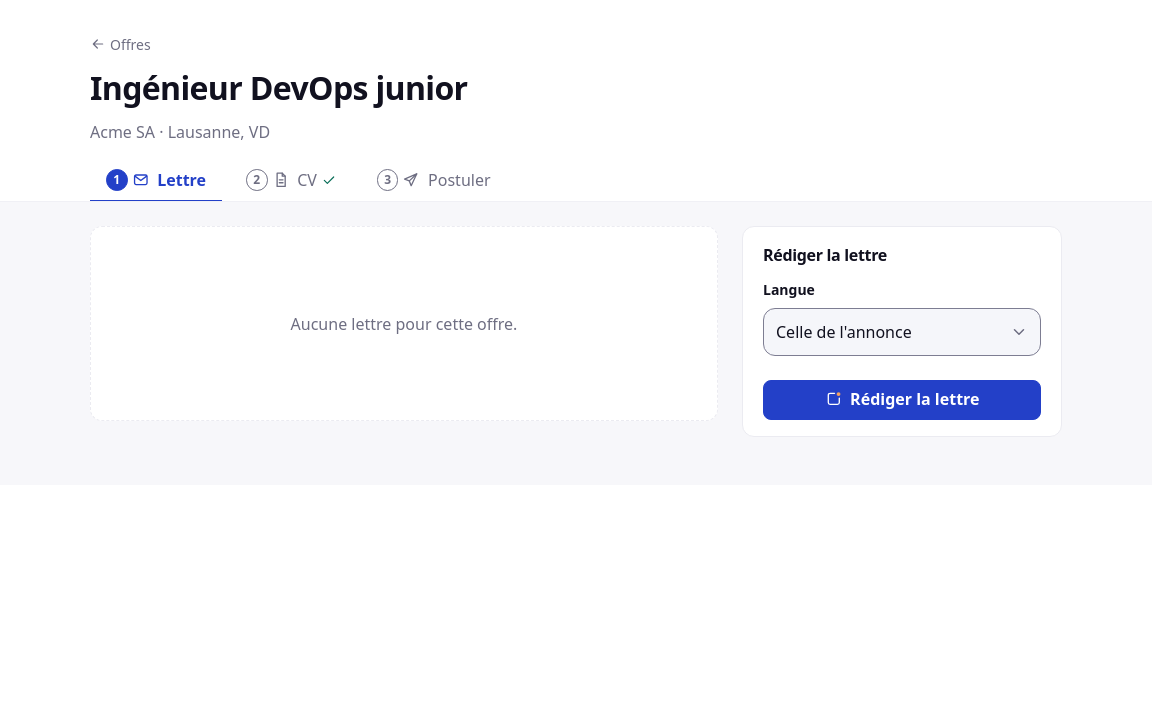
PreparationView › sans lettre : propose de la rédiger, puis affiche la lettre assemblée
expect the element with test id "no-letter" is shown: met, box [90,226,718,421]
Select "Français" in the dropdown with test id "language" at (902, 332), box [763,308,1041,356]
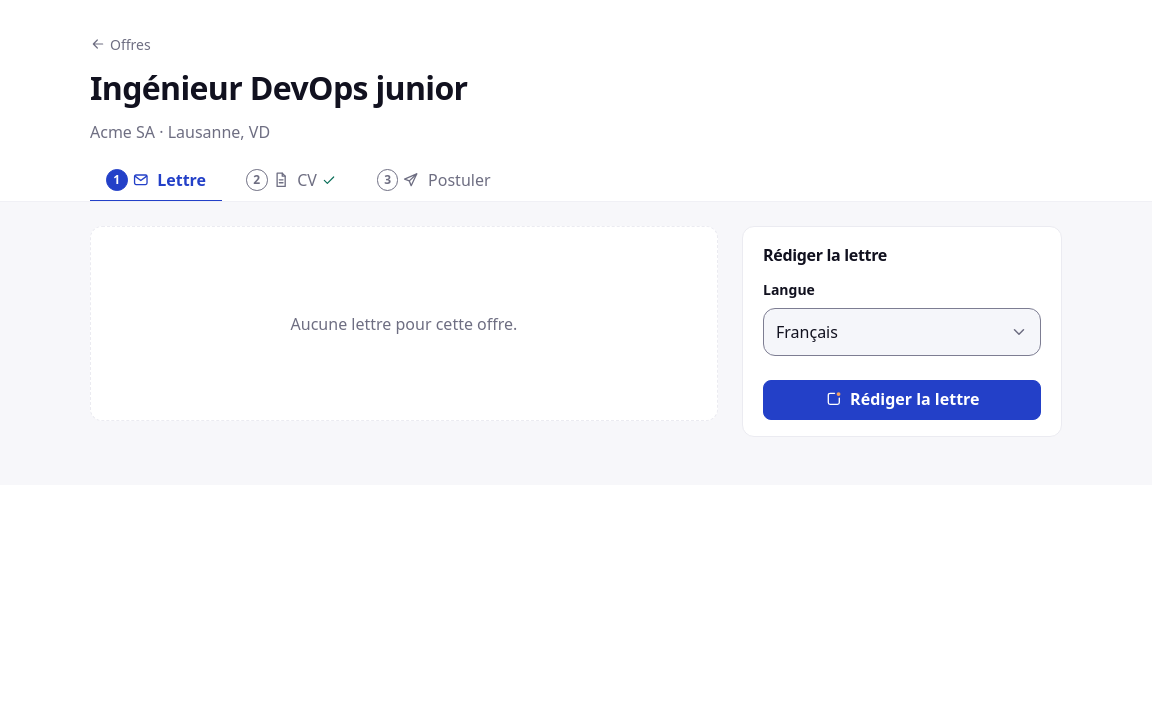
Click the button with test id "write" at (902, 400), box [763,380,1041,420]
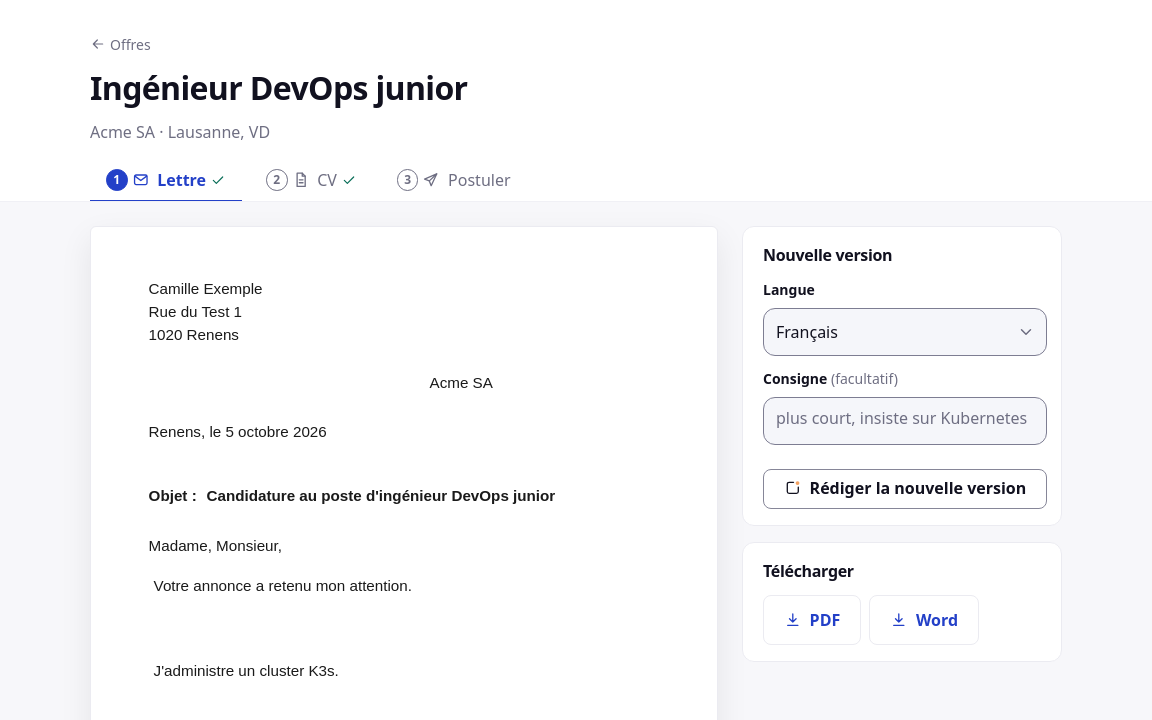
expect the element with test id "letter" shows "Renens, le 5 octobre 2026": met, box [149,423,327,440]
expect the element with test id "letter" shows "Objet :": met, box [149,487,197,504]
expect the field with test id "subject" holds "Candidature au poste d'ingénieur DevOps junior": met, box [202,472,659,520]
